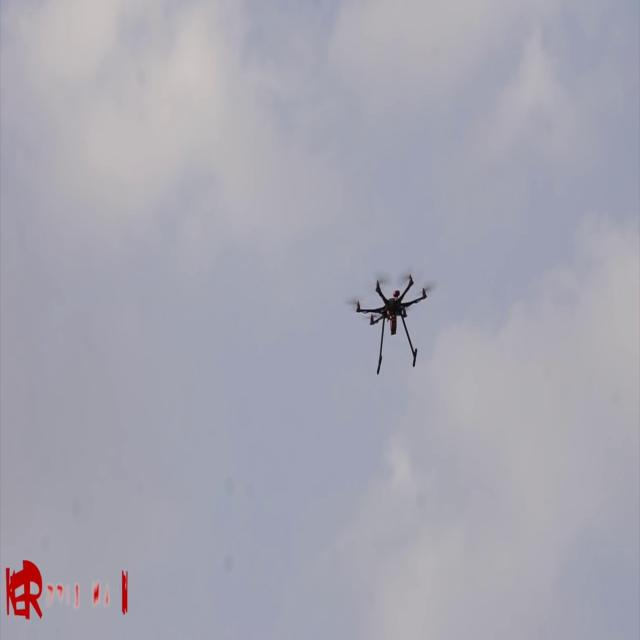drone: (334, 249, 454, 380)
